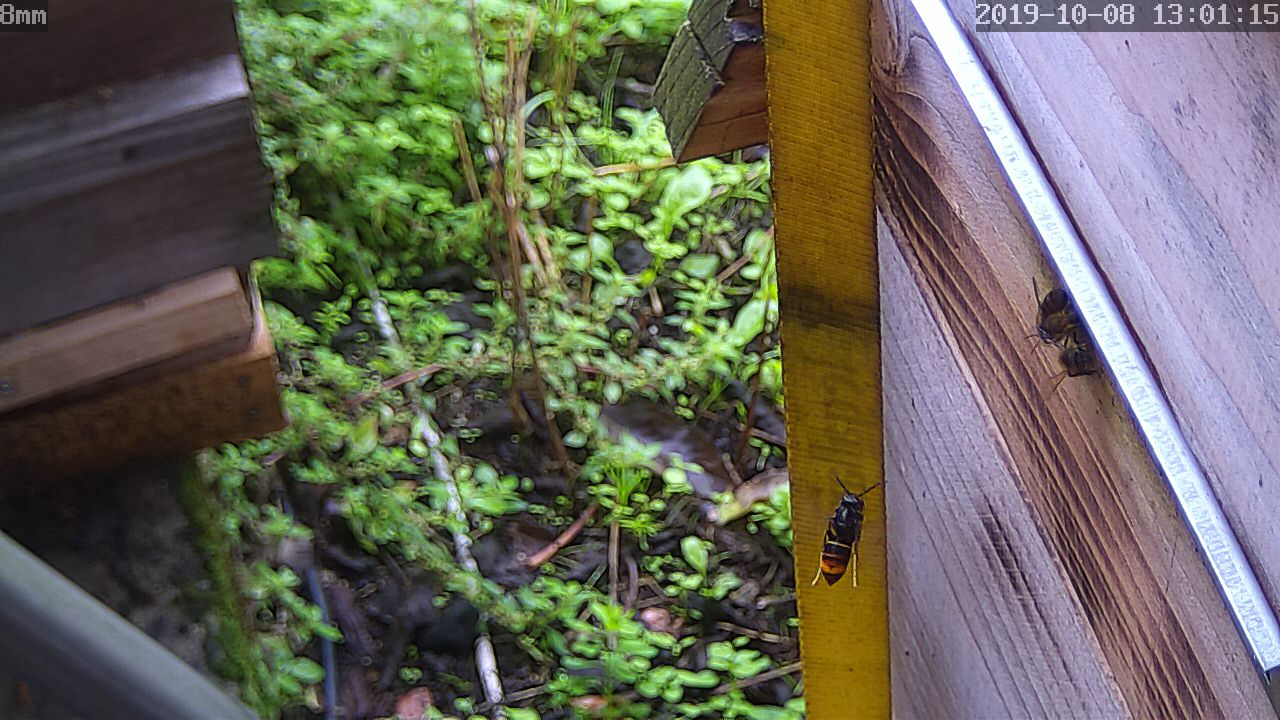bee: (1027, 277, 1096, 377)
hornet: (808, 484, 871, 586)
